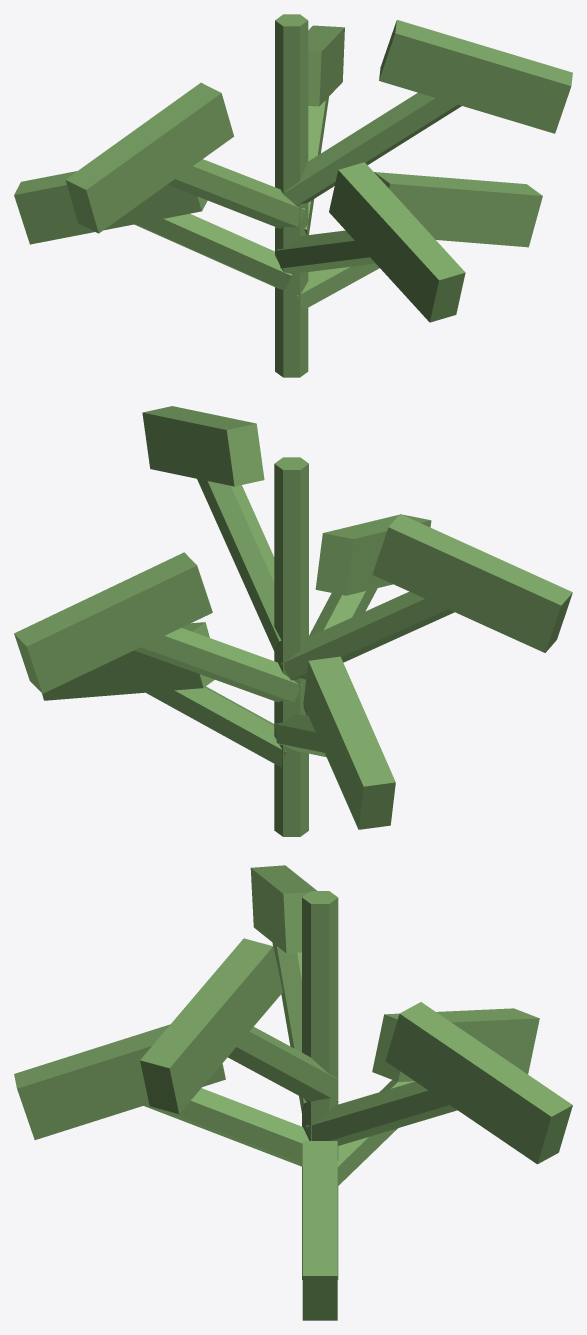
File: campaign_herb_2.glb
The picture shows the model from 3 angles, top to bottom: view 1: azimuth 30°, elevation 25°; view 2: azimuth 150°, elevation 25°; view 3: azimuth 270°, elevation 25°; orthographic projection. The views are drawn at different scales.
Parts seen in each view (by area): view 1: campaign_herb_2; view 2: campaign_herb_2; view 3: campaign_herb_2.
Part boxes in pixels (left/top/right/bottom): campaign_herb_2: left=14, top=14, right=572, bottom=377; campaign_herb_2: left=14, top=406, right=572, bottom=836; campaign_herb_2: left=14, top=865, right=572, bottom=1320.
Bounding box in the file's own units: 0.6073 × 0.42 × 0.5565.
